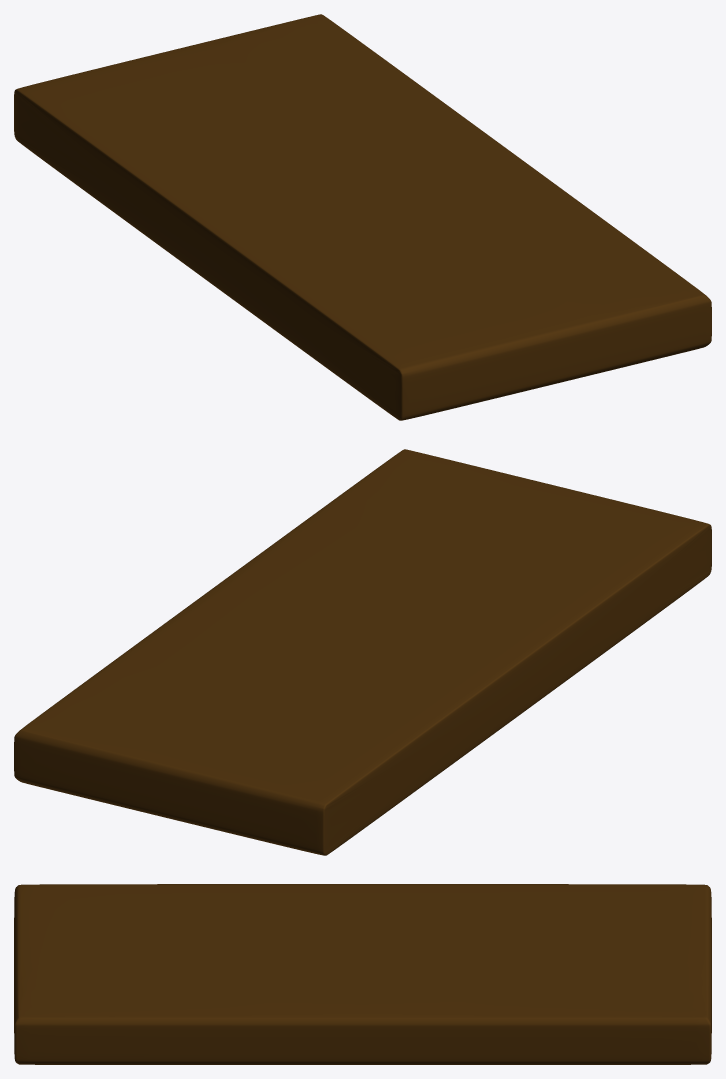
Rendered from estante.fbx.
3 renders of one model, top to bottom at view 1: azimuth 30°, elevation 25°; view 2: azimuth 150°, elevation 25°; view 3: azimuth 270°, elevation 25°, orthographic. The views are drawn at different scales.
Parts seen in each view (by area): view 1: Estante2; view 2: Estante2; view 3: Estante2.
Boxes of the visible parts, x1=… form: Estante2: x1=14, y1=14, x2=711, y2=420; Estante2: x1=14, y1=449, x2=711, y2=855; Estante2: x1=14, y1=884, x2=711, y2=1064.
Size of the model in its own units: 55.33 by 9.23 by 120.
